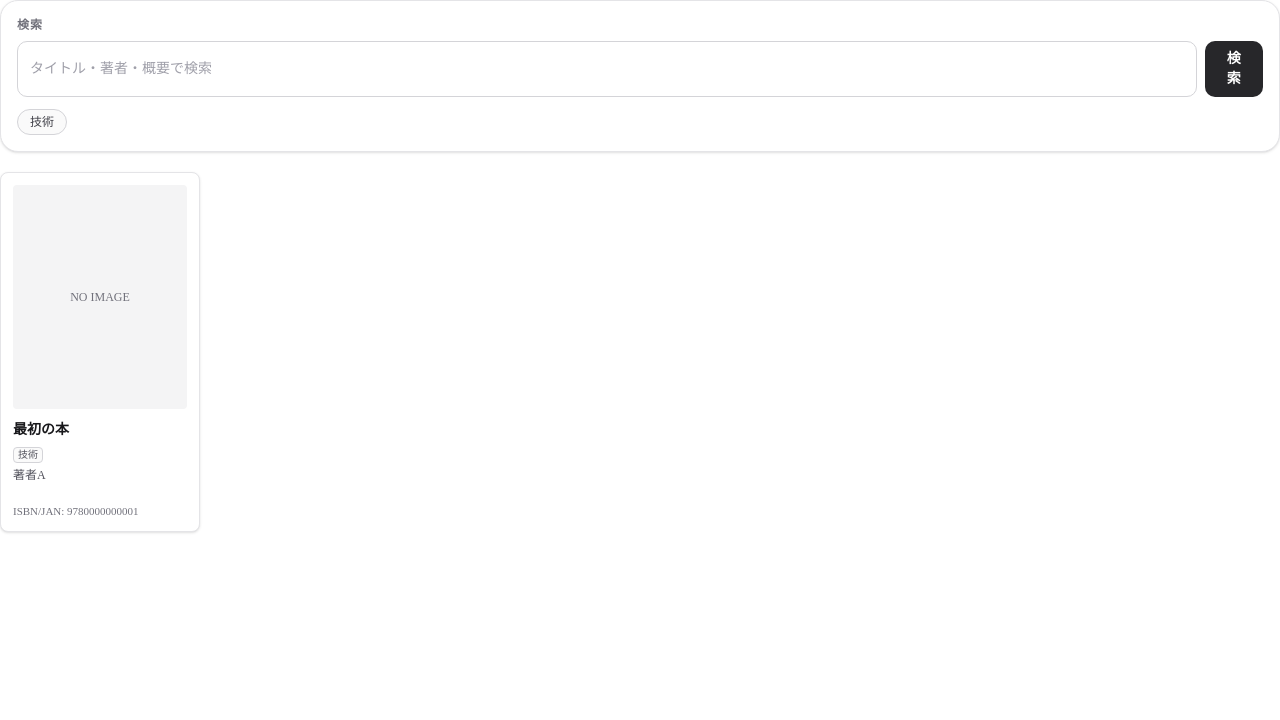
Scenario: CommunityBookPickerPage › 自由文は全文検索、選択ジャンルIDはジャンル検索へ完全分離する
Check: the heading "最初の本" is shown, box [13,422,69,437]
Click the button "技術".
click(42, 122)  # box [17,109,67,135]
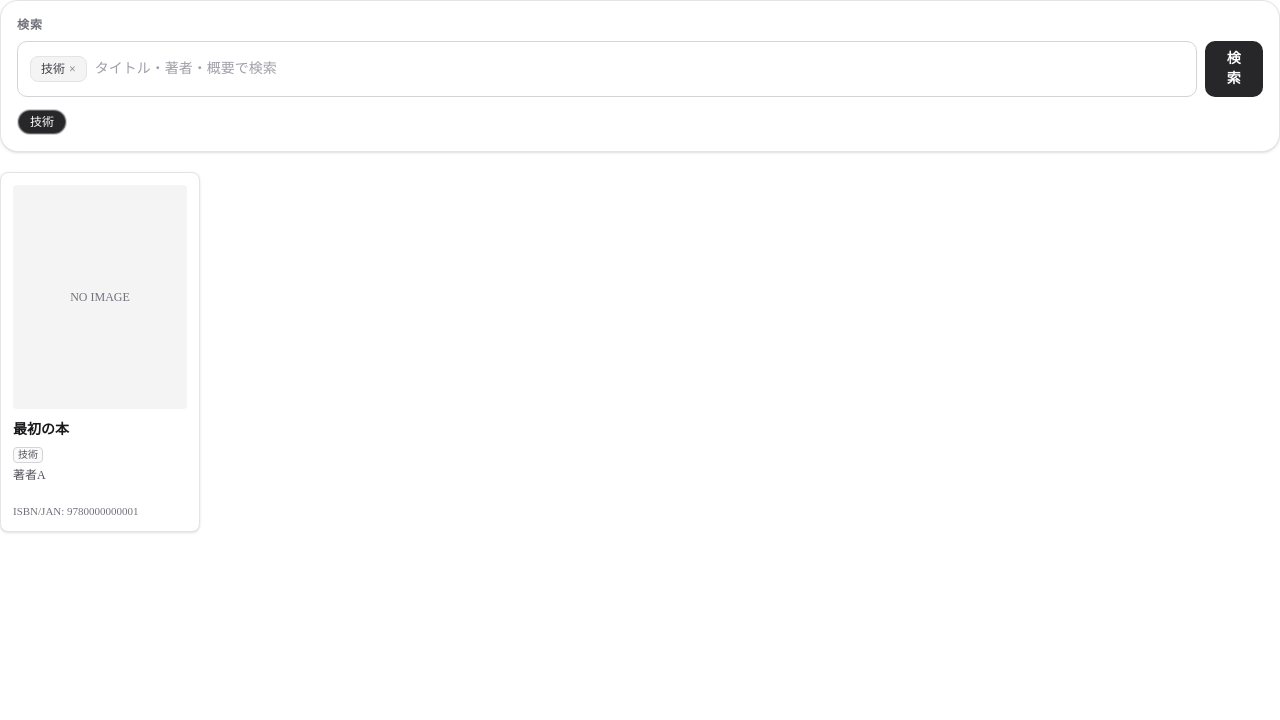
Check: the button named "技術を削除" is shown, box [69,61,76,77]
Type "React" into the field labelled "検索".
click(639, 69); type("React")  # box [95,59,1184,79]
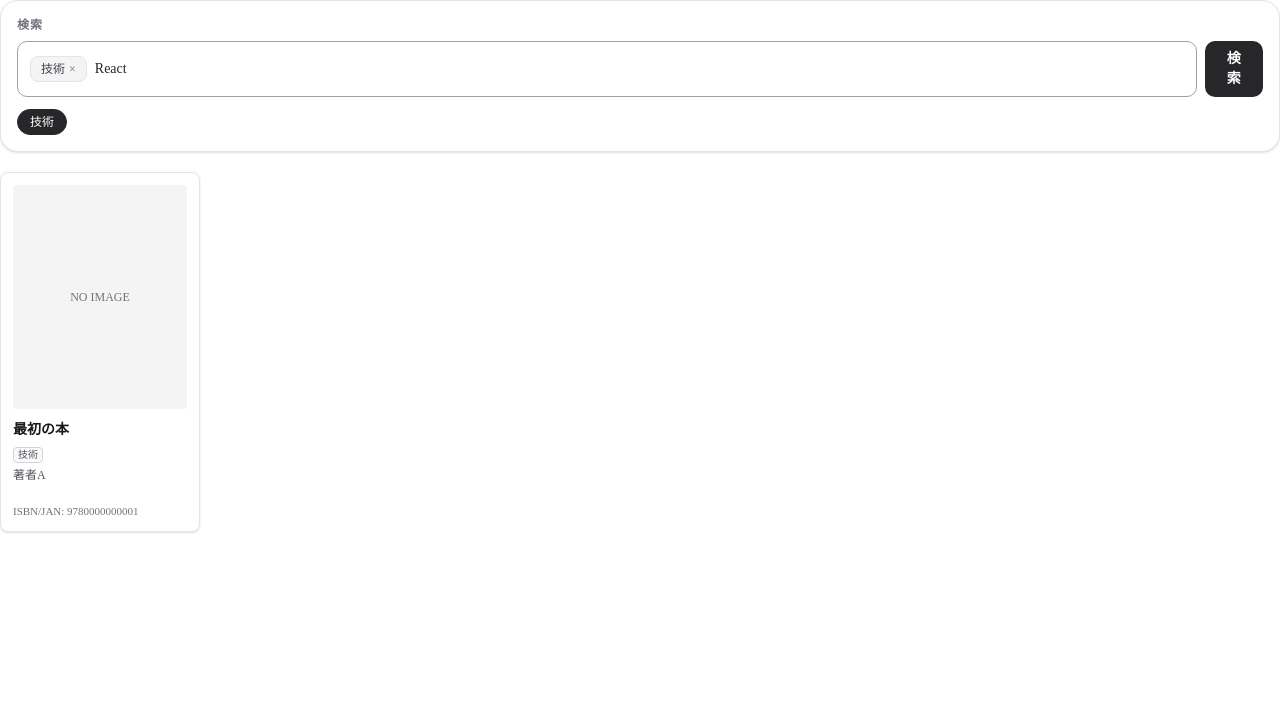
Click the button "検索".
click(1234, 69)  # box [1204,41,1263,97]
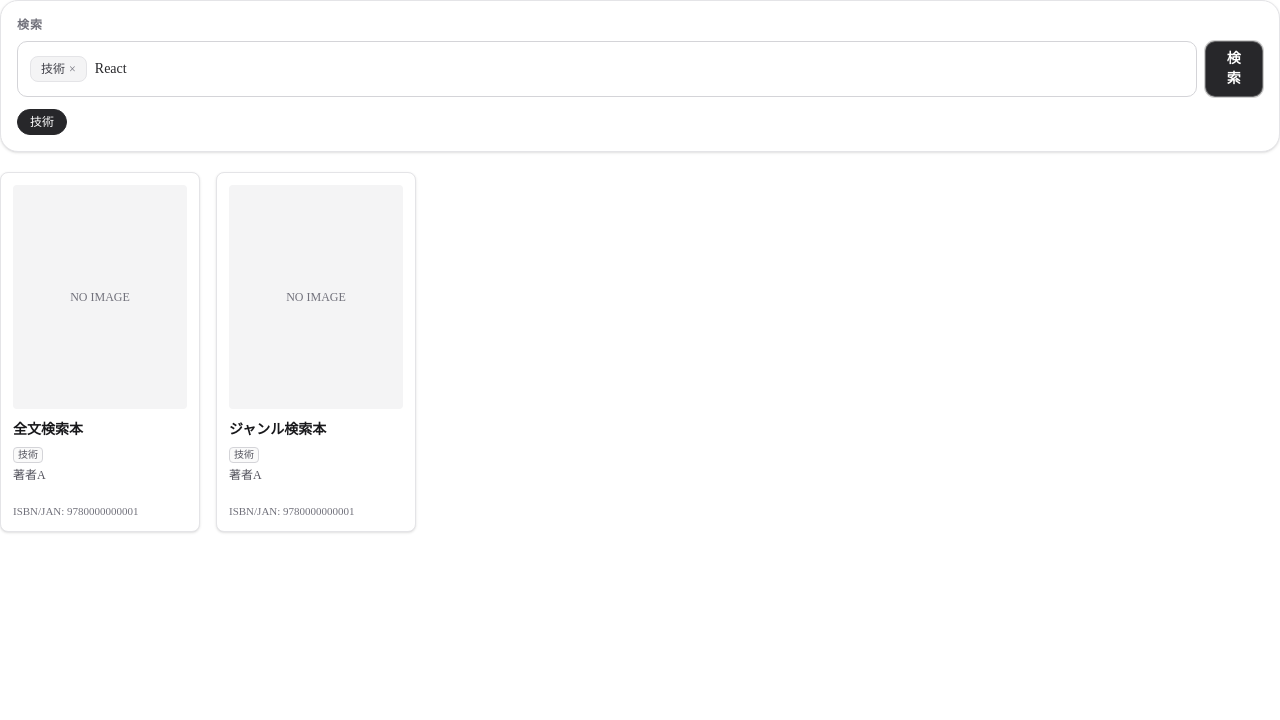
Check: the heading "全文検索本" is shown, box [13,422,83,437]
Check: the heading "ジャンル検索本" is shown, box [229,422,326,437]
